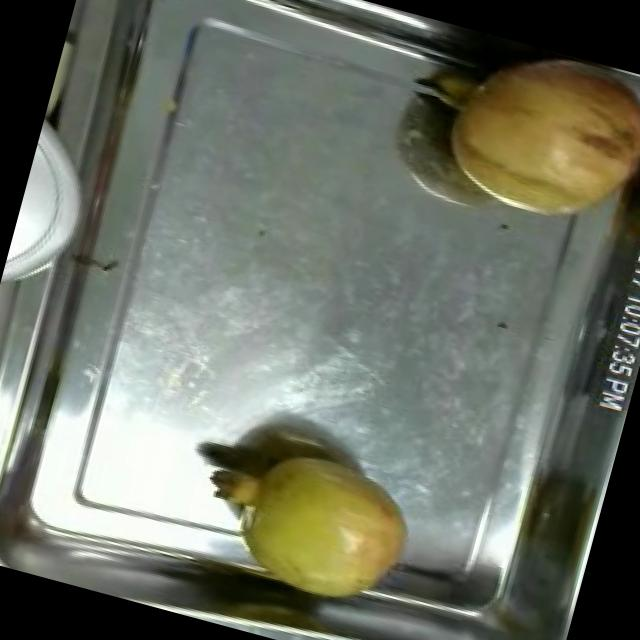fruit: (397, 21, 640, 259), (201, 428, 436, 622)
